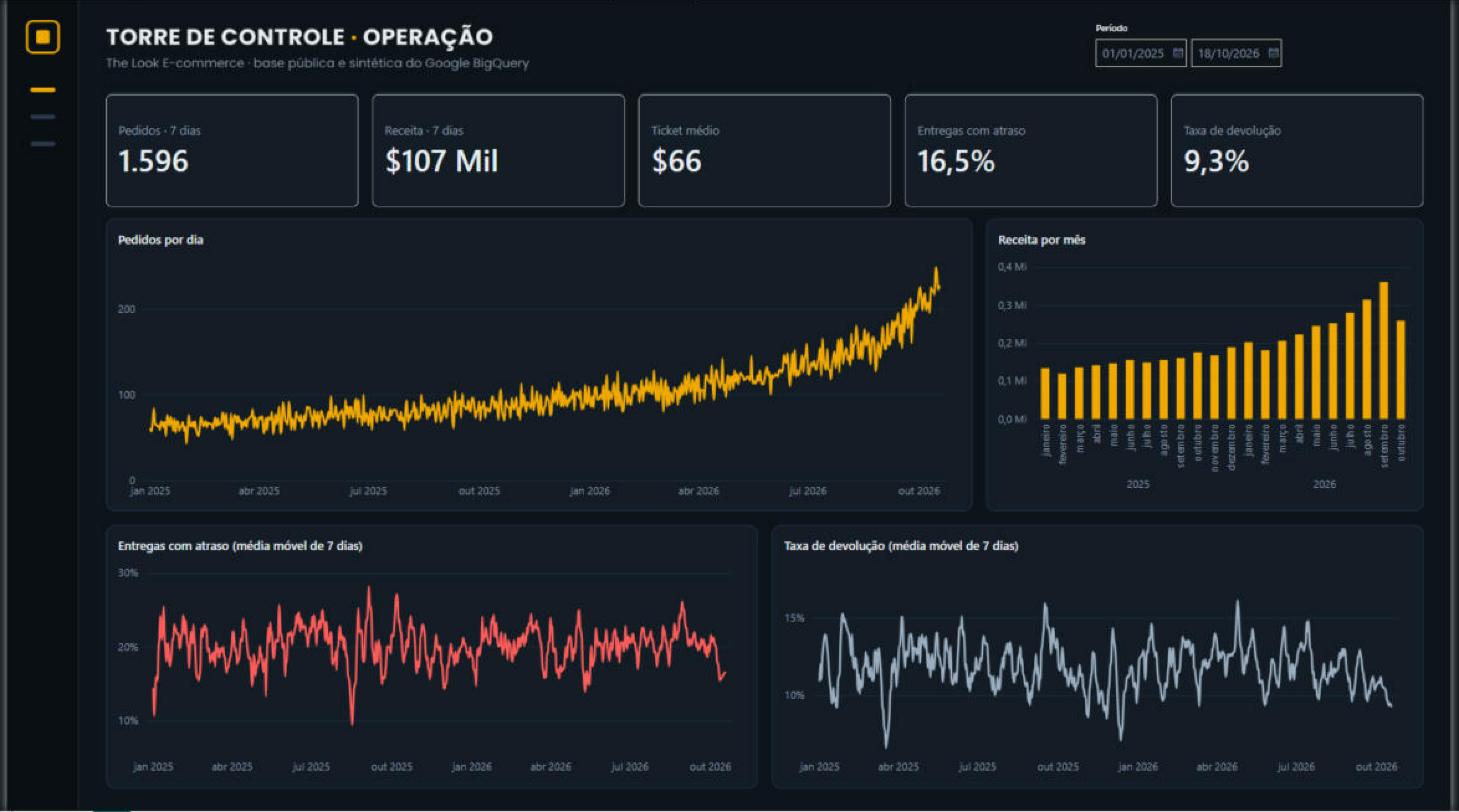

The page's visual inventory and layout, read from the dashboard file:
{"tool":"powerbi","page":{"name":"Página 1","canvas":[1920,1080],"ordinal":0},"visuals":[{"type":"slicer","fields":{"Values":["indicadores_diarios.dia"]},"box":[1440,30,444,78],"z":0},{"type":"cardVisual","fields":{"Data":["indicadores_diarios.Pedidos 7d","indicadores_diarios.Receita 7d","indicadores_diarios.Ticket médio 7d","indicadores_diarios.Atraso 7d","indicadores_diarios.Devolução 7d"]},"box":[132,126,1752,150],"z":1},{"type":"lineChart","title":"Pedidos por dia","fields":{"Category":["indicadores_diarios.dia"],"Y":["Sum(indicadores_diarios.pedidos)"]},"box":[132,294,1152,390],"z":2},{"type":"clusteredColumnChart","title":"Receita por mês","fields":{"Category":["indicadores_diarios.dia.Variation.Hierarquia de datas.Ano","indicadores_diarios.dia.Variation.Hierarquia de datas.Mês"],"Y":["Sum(indicadores_diarios.receita)"]},"box":[1302,294,582,386],"z":3},{"type":"lineChart","title":"Entregas com atraso (média móvel de 7 dias)","fields":{"Category":["indicadores_diarios.dia"],"Y":["indicadores_diarios.Atraso 7d"]},"box":[132,702,867,351],"z":4},{"type":"lineChart","title":"Taxa de devolução (média móvel de 7 dias)","fields":{"Category":["indicadores_diarios.dia"],"Y":["indicadores_diarios.Devolução 7d"]},"box":[1017,702,867,351],"z":5}]}

Visuals, with their boxes on the page's 1920x1080 design canvas (x1, y1, x2, y2). These are canvas units, not pixel positions in the 1459x812 screenshot, which may show the page scaled, cropped or inside an application window:
slicer - indicadores_diarios.dia: pyautogui.locateOnScreen(1440, 30, 1884, 108)
cardVisual - indicadores_diarios.Pedidos 7d x indicadores_diarios.Receita 7d: pyautogui.locateOnScreen(132, 126, 1884, 276)
"Pedidos por dia" lineChart: pyautogui.locateOnScreen(132, 294, 1284, 684)
"Receita por mês" clusteredColumnChart: pyautogui.locateOnScreen(1302, 294, 1884, 680)
"Entregas com atraso (média móvel de 7 dias)" lineChart: pyautogui.locateOnScreen(132, 702, 999, 1053)
"Taxa de devolução (média móvel de 7 dias)" lineChart: pyautogui.locateOnScreen(1017, 702, 1884, 1053)
